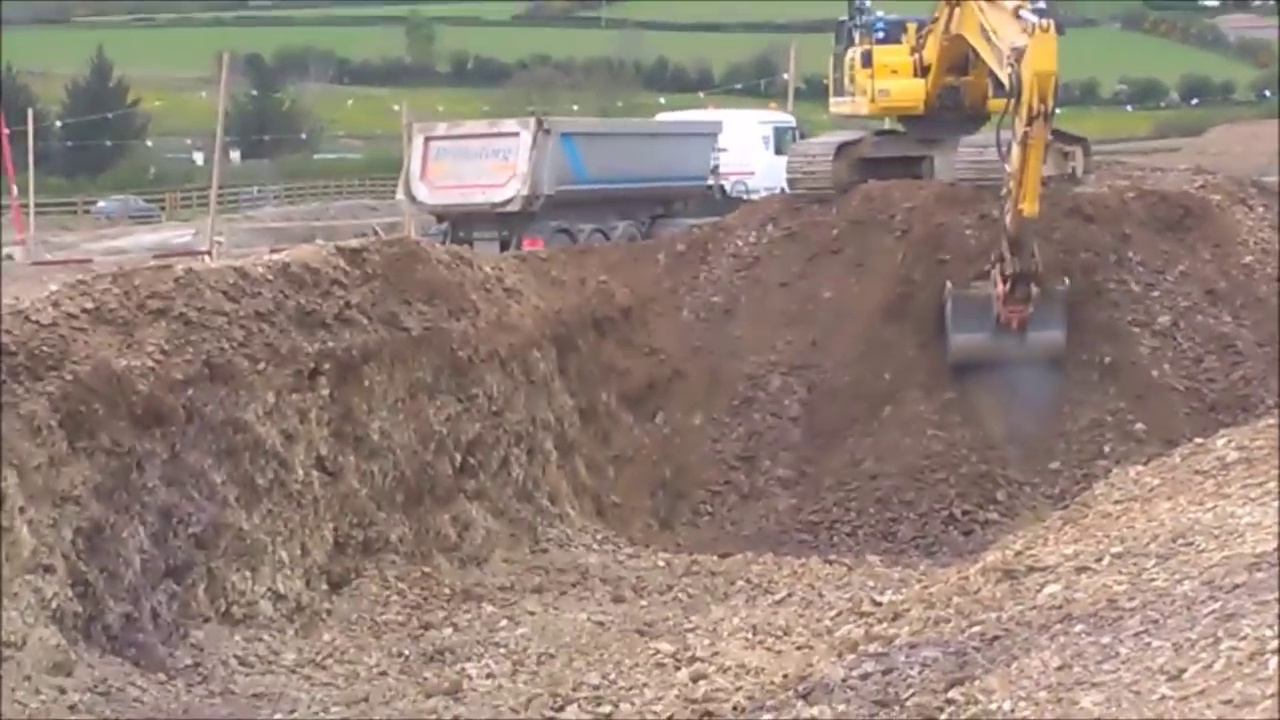excavator: (785, 3, 1098, 370)
truck: (407, 109, 803, 272)
